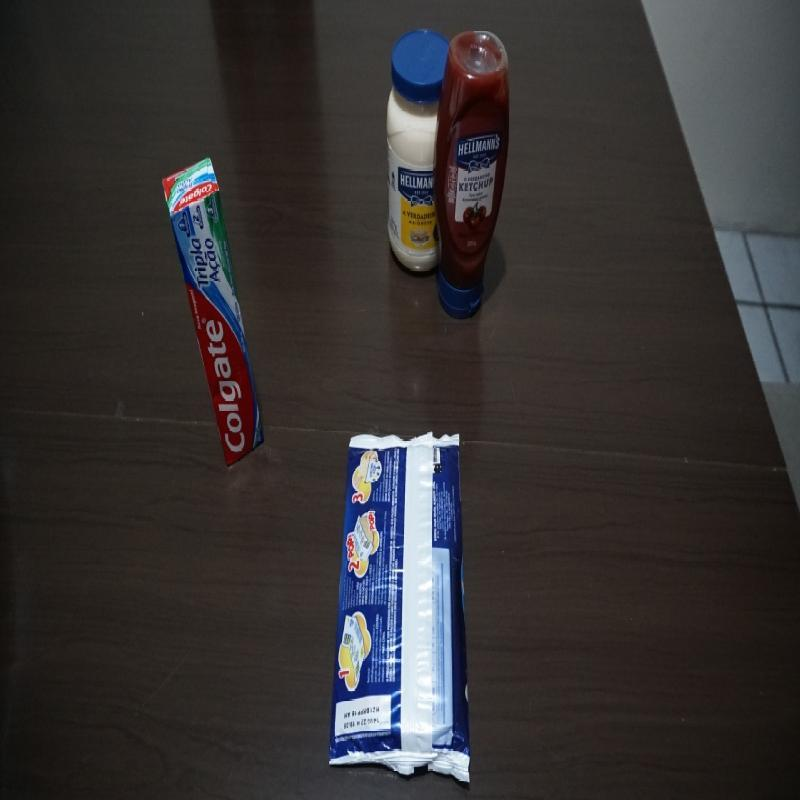Ketchup: (435, 29, 511, 320)
Mayonnaise: (385, 29, 450, 274)
Popcorn: (328, 431, 473, 786)
Toothpaste: (162, 157, 266, 468)
